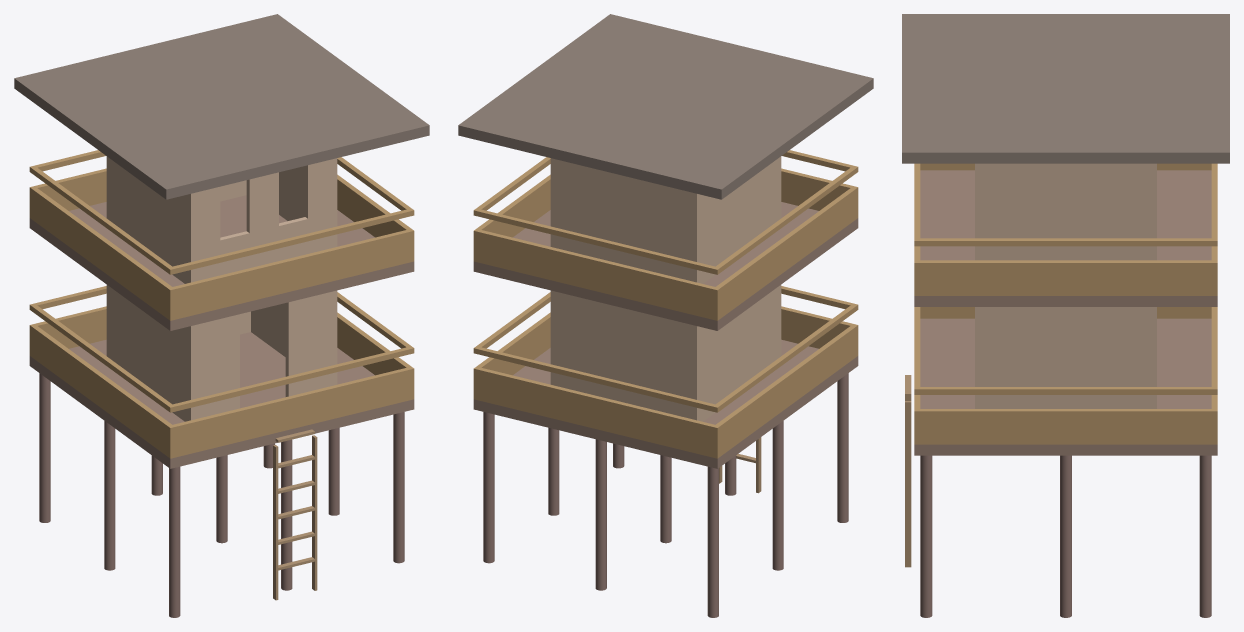
File: two_story_wooden_treehouse_cabin.gltf
The picture shows the model from 3 angles, left to right: view 1: azimuth 30°, elevation 25°; view 2: azimuth 150°, elevation 25°; view 3: azimuth 270°, elevation 25°; orthographic projection. The views are drawn at different scales.
Parts seen in each view (by area): view 1: roof, floor_1, rail_1_front_bottom, rail_2_front_bottom, floor_2, wall_1_left, wall_2_left, rail_1_left_bottom, rail_2_left_bottom, wall_1_front_right, wall_1_front_left, wall_2_front_left (+28 smaller); view 2: roof, wall_1_back, wall_2_back, rail_1_back_bottom, rail_2_back_bottom, floor_1, floor_2, wall_1_left, wall_2_left, rail_1_left_bottom, rail_2_left_bottom, rail_2_back_top (+18 smaller); view 3: roof, wall_1_right, wall_2_right, floor_1, floor_2, rail_1_right_bottom, rail_2_right_bottom, rail_2_right_top, rail_1_right_top, stilt_front_right, stilt_back_right, stilt_middle_right (+11 smaller).
Part boxes in pixels (box(x1,y1,x2,y2)): roof: box(14, 14, 429, 199); floor_1: box(29, 332, 414, 468); rail_1_front_bottom: box(167, 366, 414, 458); rail_2_front_bottom: box(167, 228, 414, 320); floor_2: box(29, 195, 414, 330); wall_1_left: box(109, 286, 188, 421); wall_2_left: box(109, 158, 188, 283); rail_1_left_bottom: box(32, 326, 171, 456); rail_2_left_bottom: box(32, 188, 171, 318); wall_1_front_right: box(285, 290, 337, 396); wall_1_front_left: box(188, 314, 239, 420); wall_2_front_left: box(188, 187, 220, 282); roof: box(458, 14, 873, 199); wall_1_back: box(550, 290, 699, 420); wall_2_back: box(550, 158, 699, 282); rail_1_back_bottom: box(473, 366, 720, 458); rail_2_back_bottom: box(473, 228, 720, 320); floor_1: box(473, 339, 858, 468); floor_2: box(473, 202, 858, 330); wall_1_left: box(699, 286, 778, 421); wall_2_left: box(699, 158, 778, 283); rail_1_left_bottom: box(716, 326, 855, 456); rail_2_left_bottom: box(716, 188, 855, 318); rail_2_back_top: box(473, 208, 720, 274); roof: box(902, 14, 1229, 163); wall_1_right: box(981, 307, 1150, 408); wall_2_right: box(981, 163, 1150, 260); floor_1: box(914, 318, 1217, 455); floor_2: box(914, 170, 1217, 306); rail_1_right_bottom: box(920, 409, 1211, 444); rail_2_right_bottom: box(920, 260, 1211, 295); rail_2_right_top: box(920, 238, 1211, 246); rail_1_right_top: box(920, 387, 1211, 394); stilt_front_right: box(920, 455, 932, 617); stilt_back_right: box(1199, 455, 1211, 617); stilt_middle_right: box(1060, 455, 1071, 617).
Bounding box in the file's own units: 5.4 × 8.6 × 5.4.
